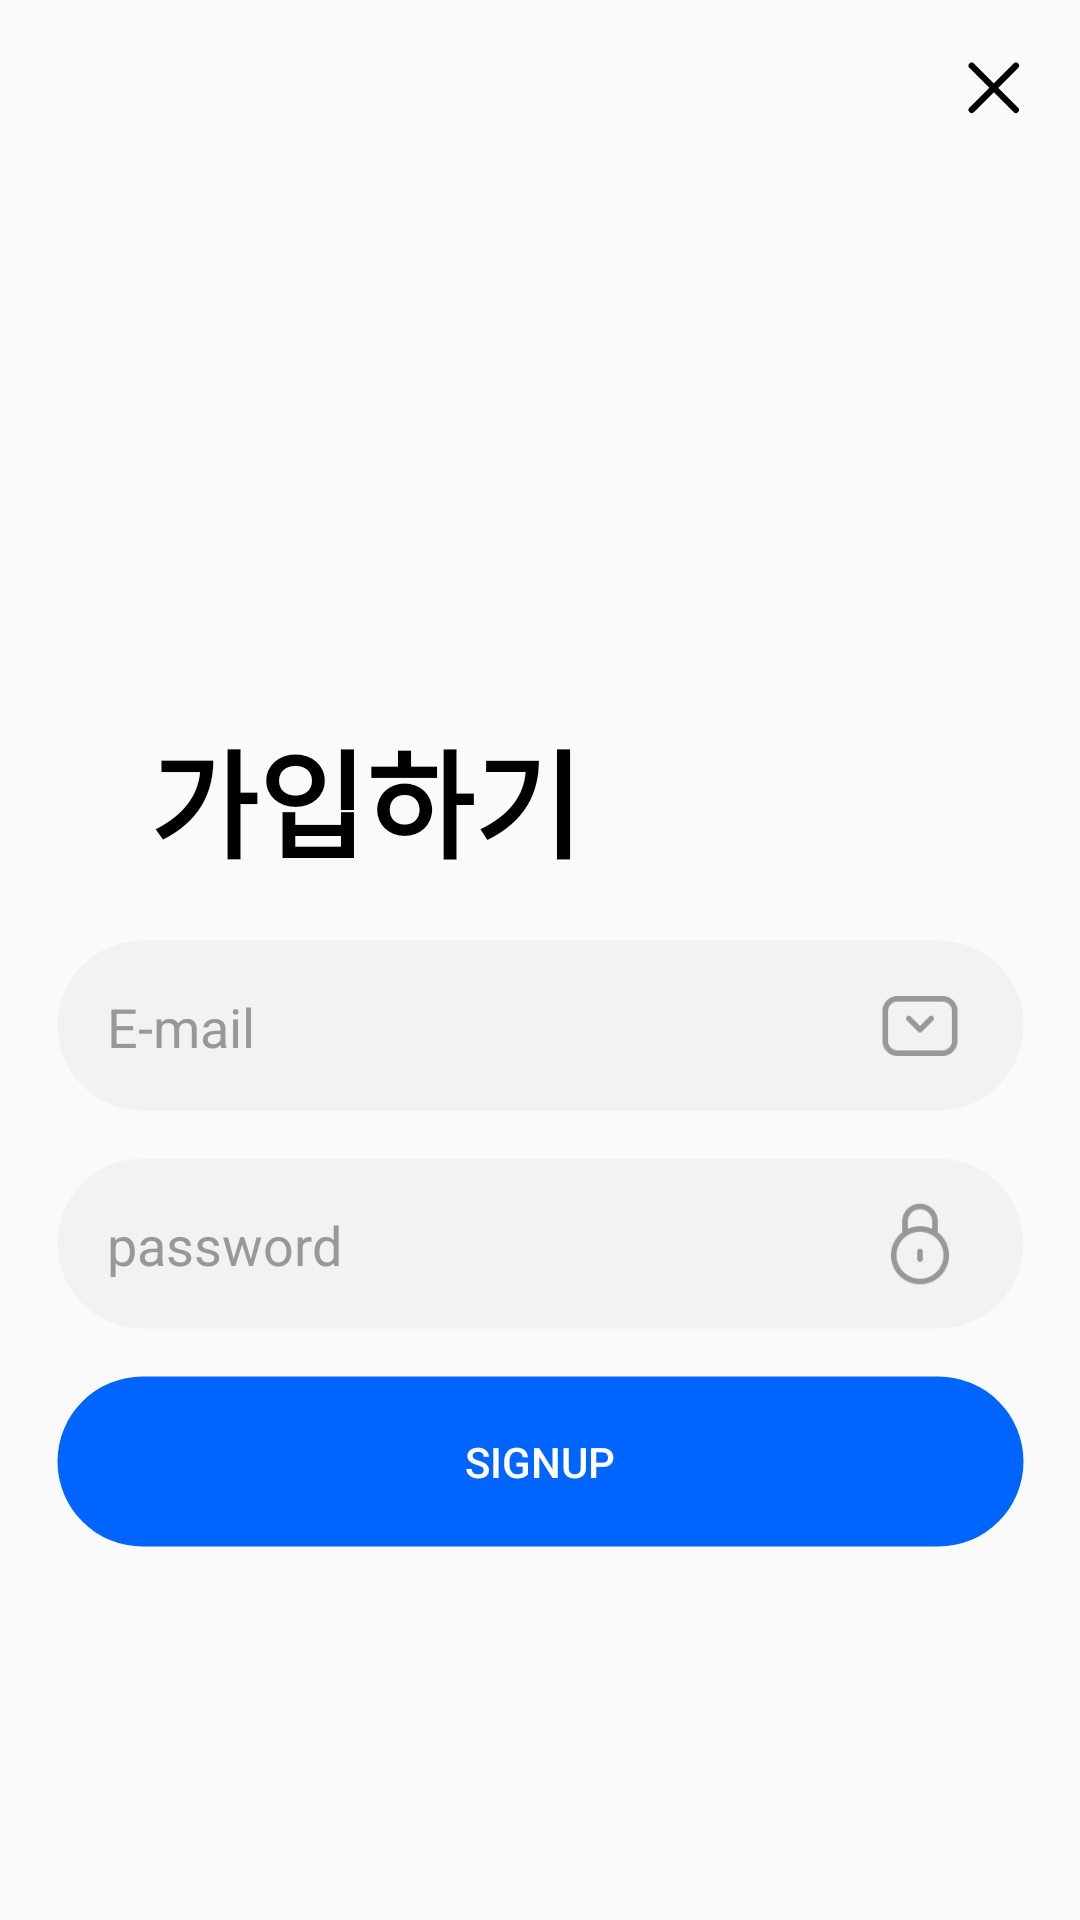

Named icons in this screenshot (1080px x 1920px) and their bounding boxes, (x1, y1, x2, y2):
cancel: (968, 62, 1020, 114)
lock: (891, 1203, 949, 1285)
